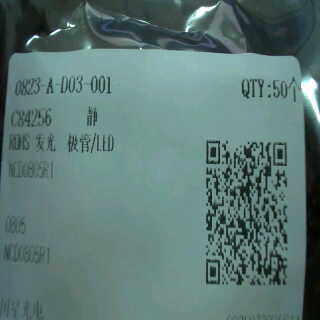LED: (34, 128, 119, 156)
